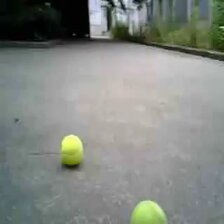tennis: (129, 201, 169, 224), (60, 134, 83, 165)
